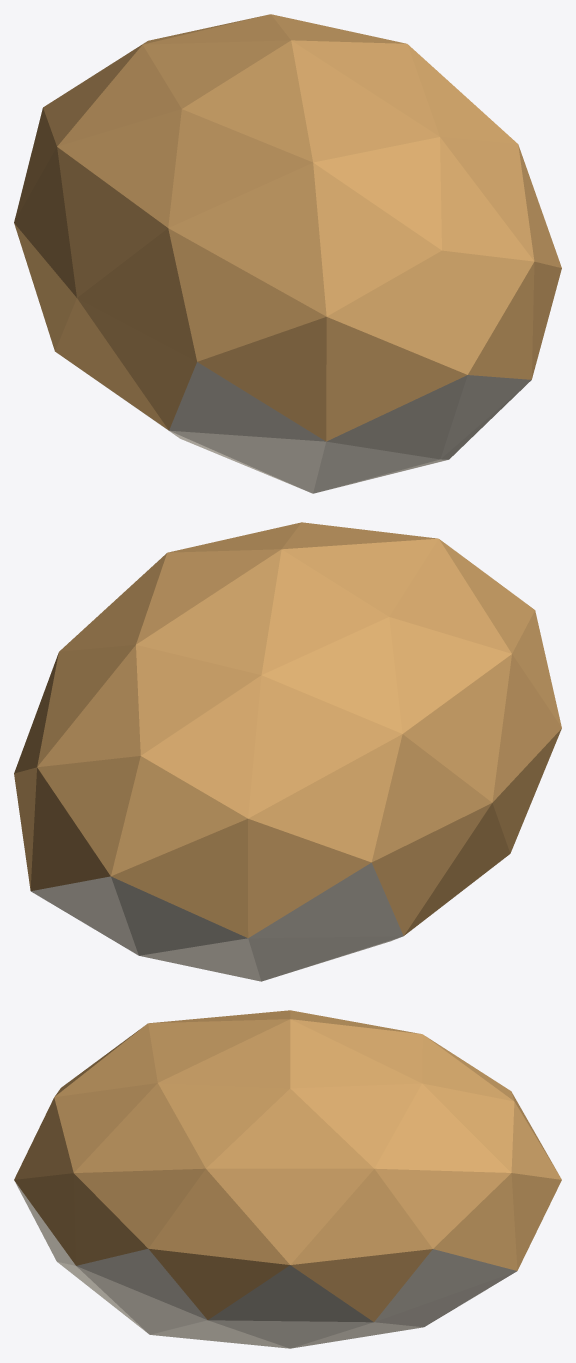
Rendered from companion_body.glb.
3 views of the same model, one above another, from view 1: azimuth 30°, elevation 25°; view 2: azimuth 150°, elevation 25°; view 3: azimuth 270°, elevation 25° (orthographic). The views are drawn at different scales.
Parts seen in each view (by area): view 1: companion_body; view 2: companion_body; view 3: companion_body.
Part boxes in pixels (left/top/right/bottom): companion_body: left=14, top=14, right=561, bottom=493; companion_body: left=14, top=522, right=561, bottom=981; companion_body: left=14, top=1010, right=561, bottom=1348.
Bounding box in the file's own units: 0.3458 × 0.3027 × 0.4794.
